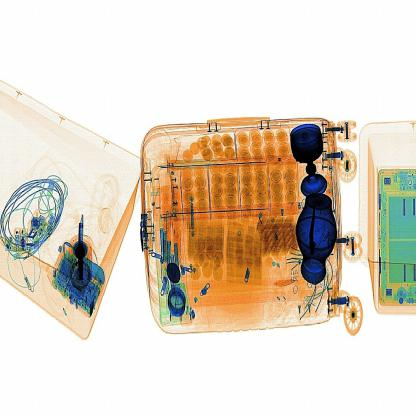pliers: (70, 212, 98, 286)
